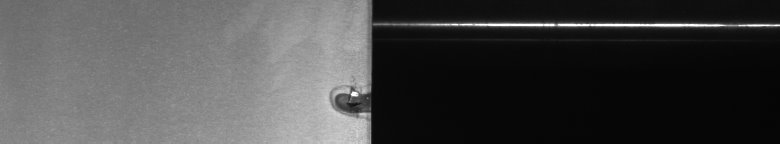hb: (324, 76, 360, 127)
